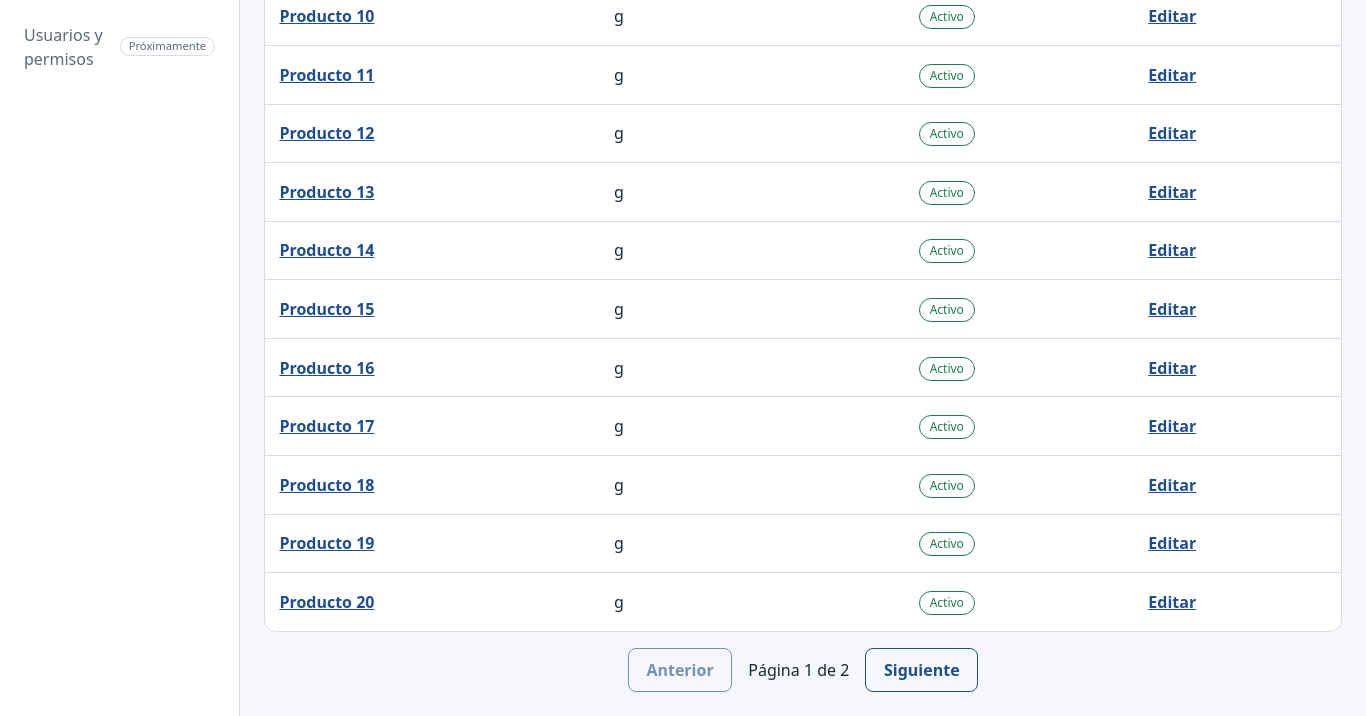
Scenario: lista de productos › pagina de a 20 y permite avanzar y retroceder
(page scrolled)
Expected: the button "Anterior" is disabled, [628, 648, 732, 692]
Click the button "Siguiente". click: (922, 670)
box: [865, 648, 978, 692]
(page scrolled)
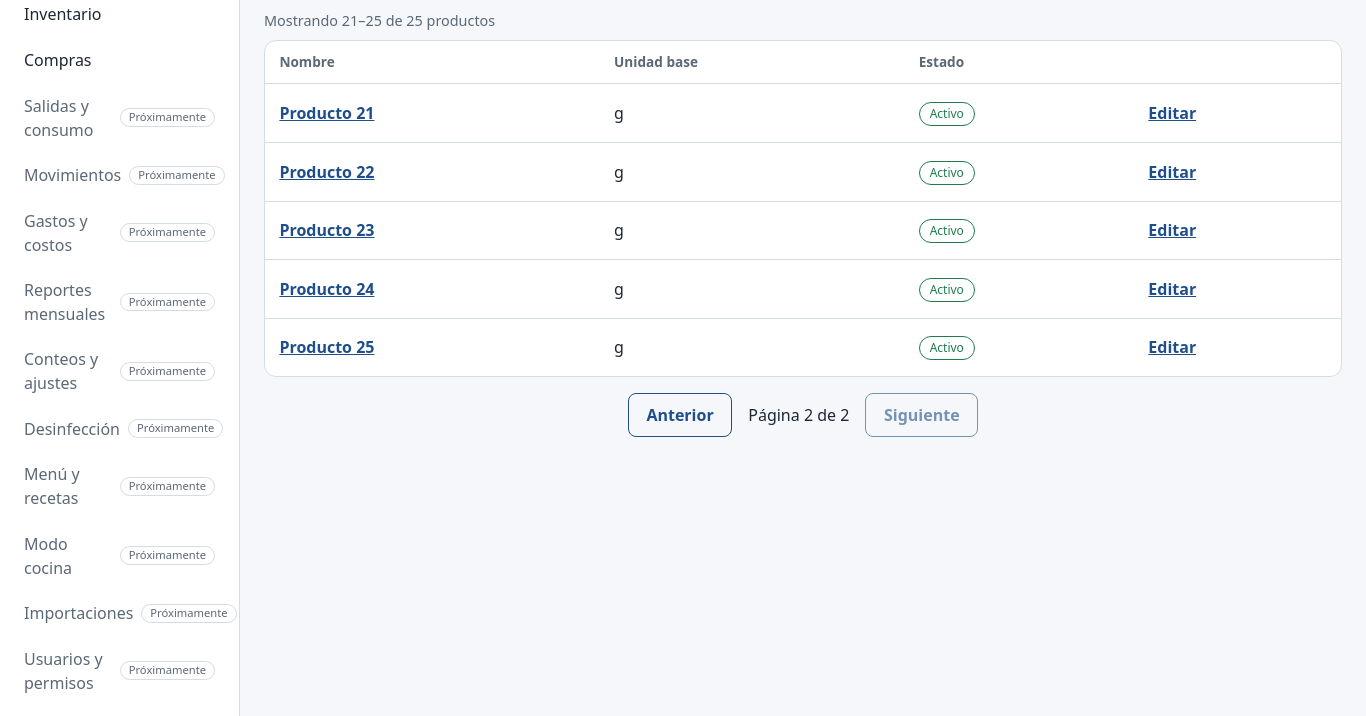
Now the text "Mostrando 21–25 de 25 productos" is shown, box [264, 11, 495, 30]
Now the text "Página 2 de 2" is shown, box [748, 403, 850, 427]
Now the button "Siguiente" is disabled, box [865, 393, 978, 437]
Click the button "Anterior". click: (680, 415)
box: [628, 393, 732, 437]
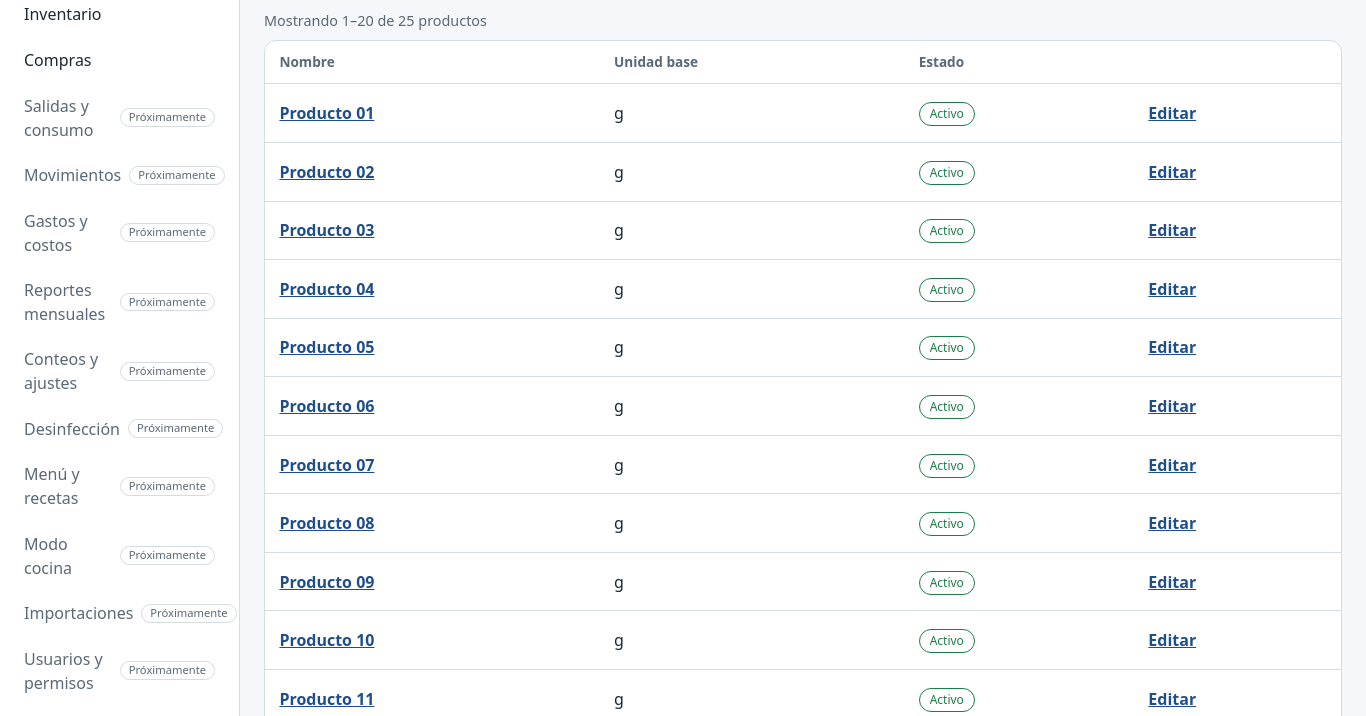
Now the text "Mostrando 1–20 de 25 productos" is shown, box [264, 11, 487, 30]
